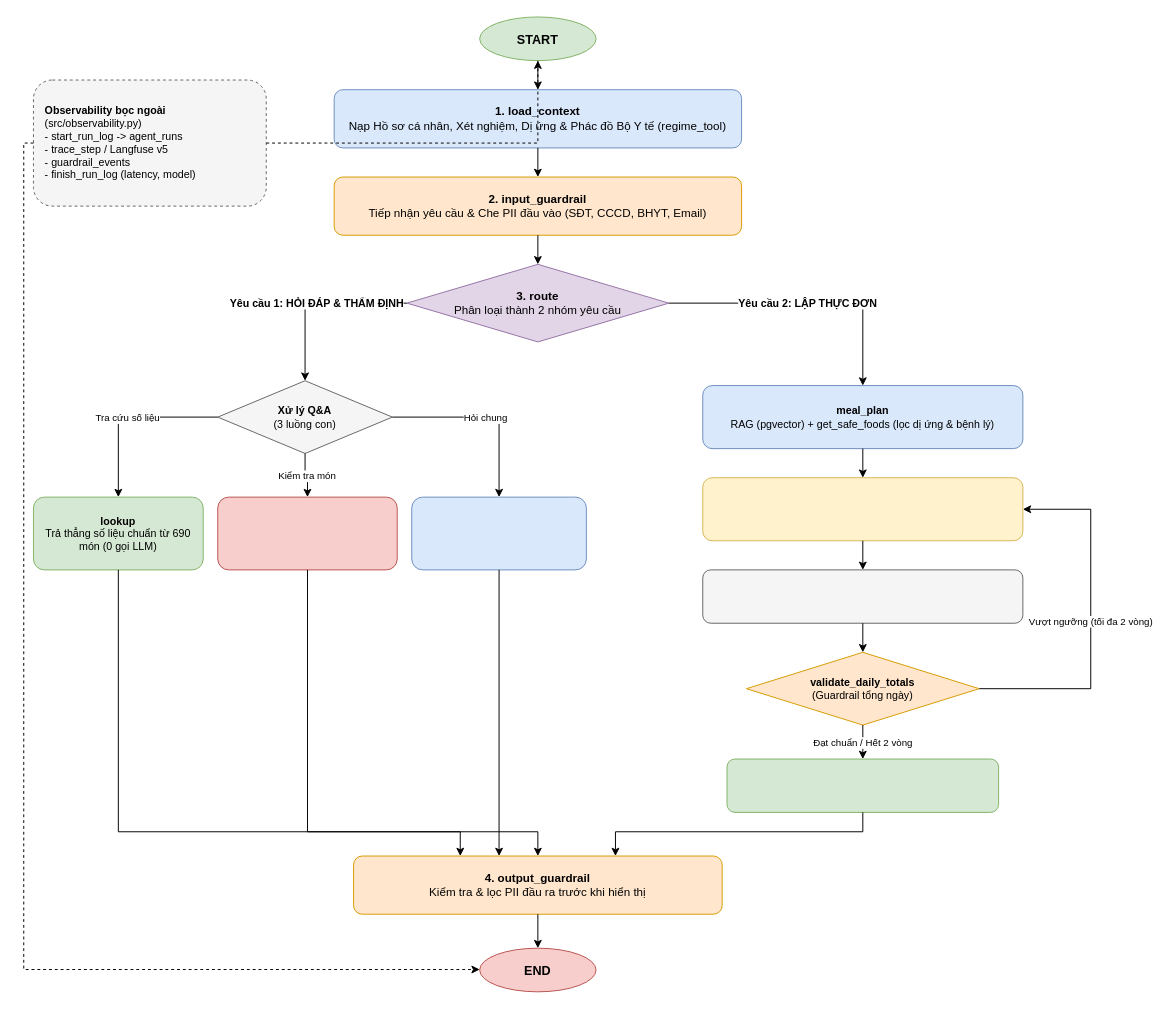
This 1170x1009 diagram has some shape labels left out. The shapes that lost their labels are listed below. From the top down, each one's centre as x and y in pixels, then its label:
the point at 862,509: Gemini sinh thực đơn JSON (Hồ sơ + Phác đồ + RAG + Ngân sách/Khẩu vị)
the point at 307,533: safety RAG (pgvector) + Guardrail + Món thay thế + Gemini
the point at 498,533: general RAG (pgvector) + Gemini tư vấn theo bệnh án
the point at 862,596: Python tính tổng dinh dưỡng thực tế (_compute_day_totals)
the point at 862,785: Lưu Database (meal_plans & meal_plan_items)
